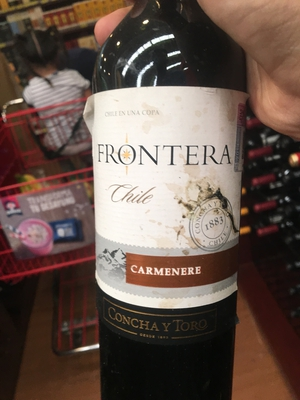frontera carmenere: (74, 11, 256, 400)
